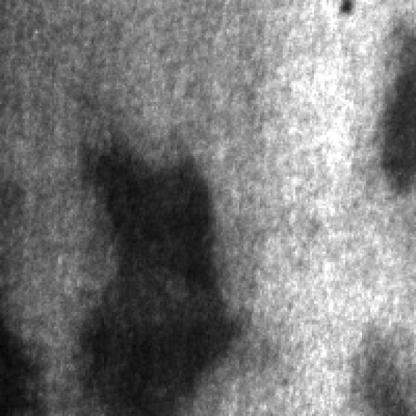patches: (89, 150, 219, 408), (341, 320, 412, 414), (378, 27, 414, 189), (0, 320, 44, 414)
